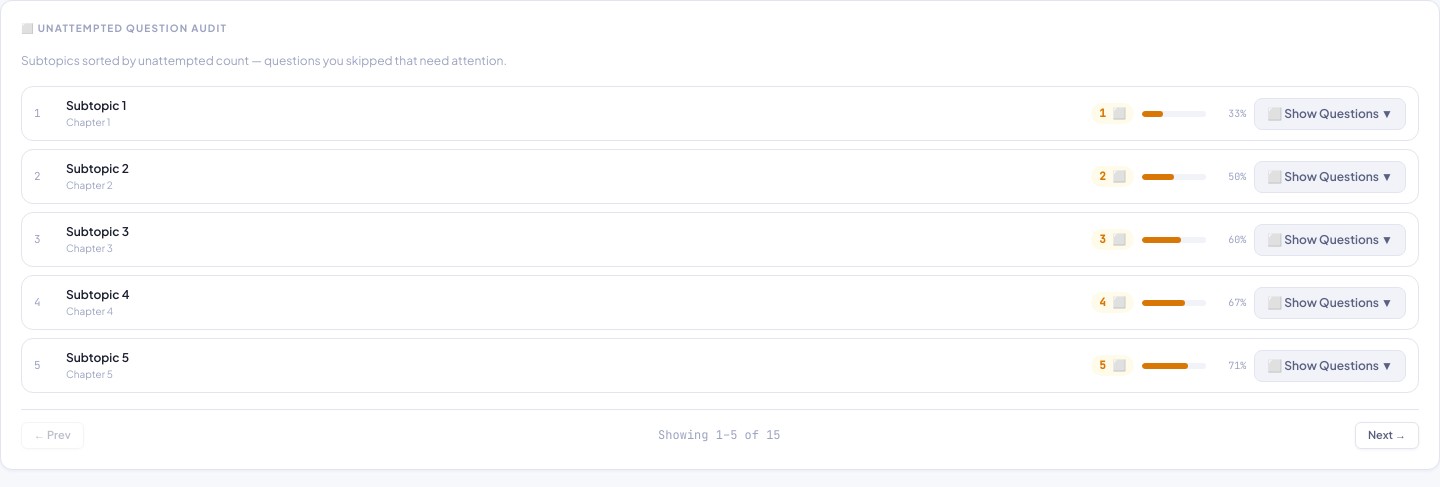
Test: UnattemptedAudit — pagination with 15 items › returns to first page when Prev is clicked from page 2
Click the button "Next →".
click(1387, 435)  # box [1355,422,1419,448]
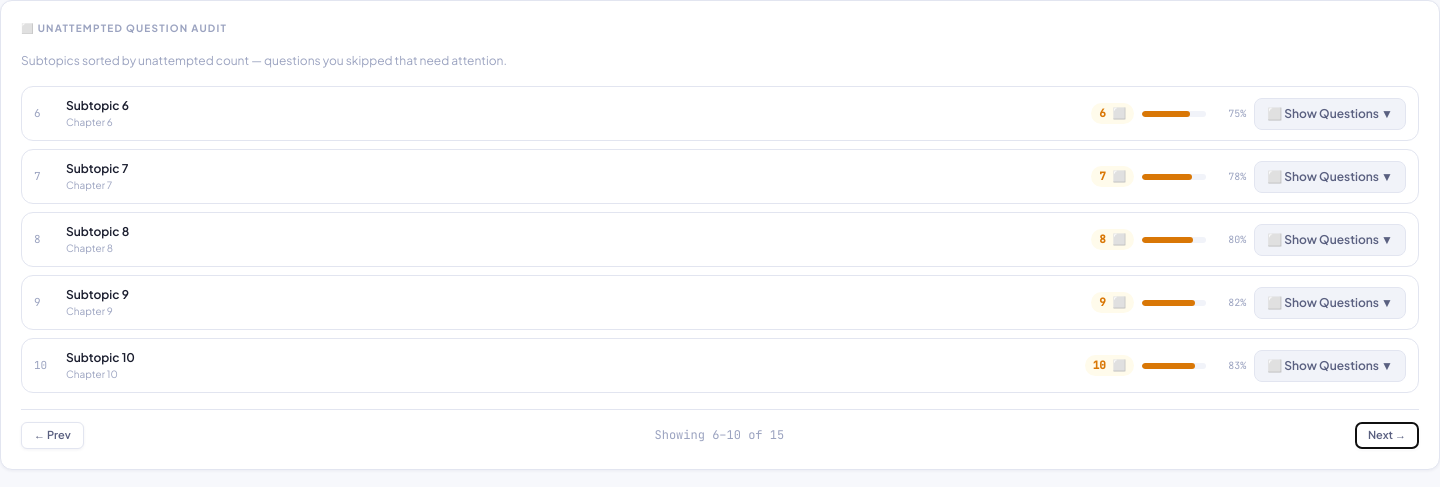
Click the button "← Prev".
click(52, 435)  # box [21,422,84,448]
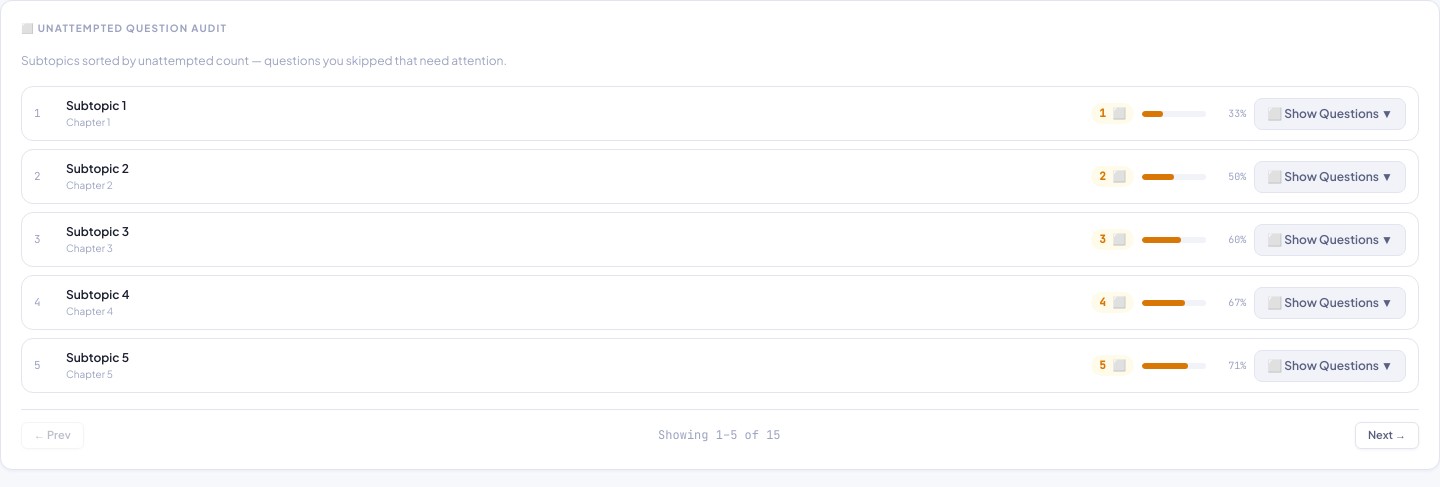
Result: the text "Subtopic 1" is shown at [66,98,126,113]
